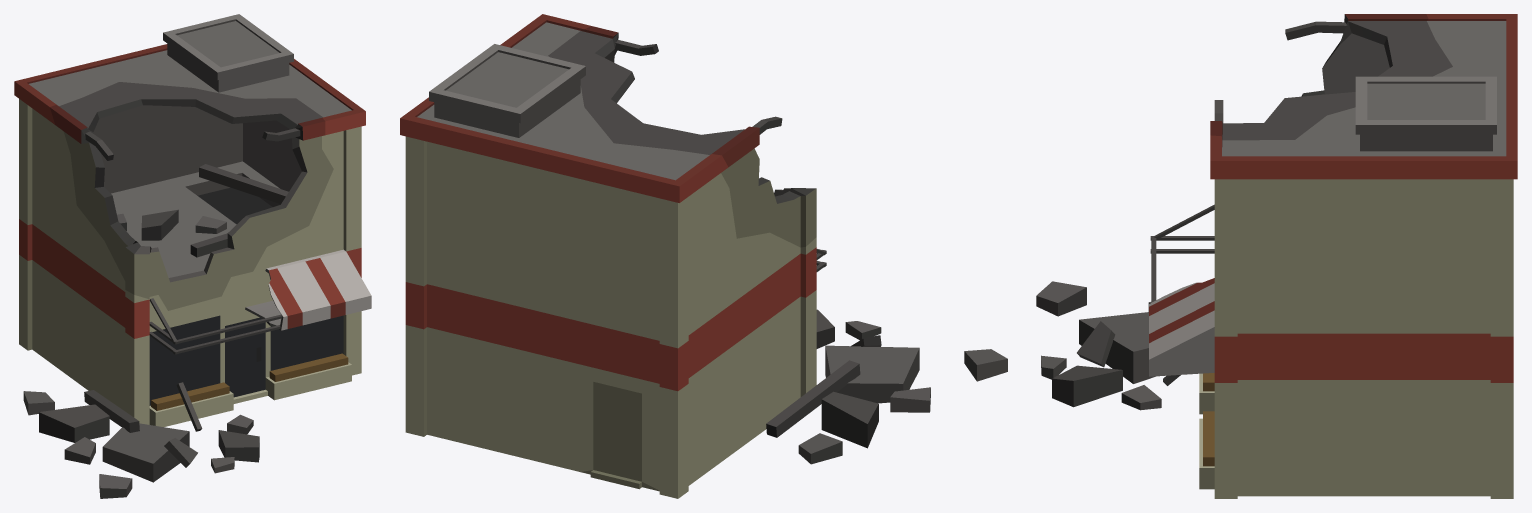
The model's file is SA_Bld_Shop_Damaged_01.glb.
3 views of the same model, side by side, from view 1: azimuth 30°, elevation 25°; view 2: azimuth 150°, elevation 25°; view 3: azimuth 270°, elevation 25° (orthographic). The views are drawn at different scales.
Visible parts, largest first — view 1: SA_Bld_Shop_Damaged_01; view 2: SA_Bld_Shop_Damaged_01; view 3: SA_Bld_Shop_Damaged_01.
Boxes of the visible parts, x1,y1,x2,y2 form: SA_Bld_Shop_Damaged_01: (14, 14, 371, 498); SA_Bld_Shop_Damaged_01: (400, 14, 1007, 498); SA_Bld_Shop_Damaged_01: (1036, 14, 1517, 498).
Size of the model in its own units: 6.85 by 5.88 by 6.76.
Materials: 1 (1 with a texture image).
